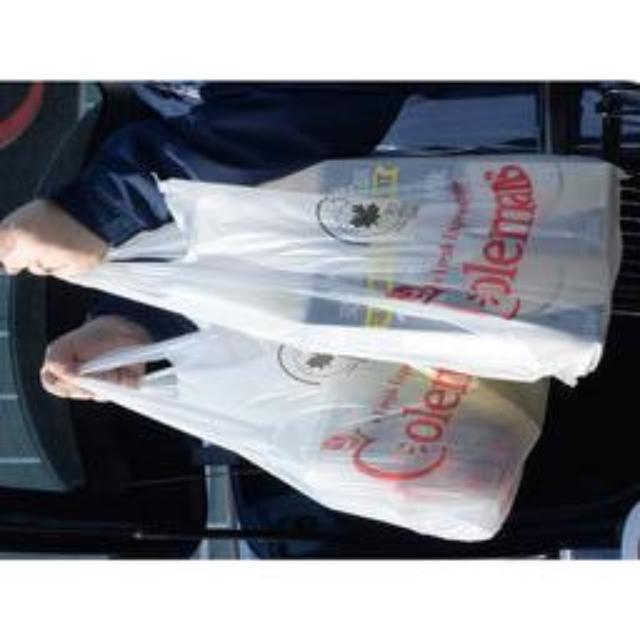Bolsa-de-nilon: (52, 143, 623, 377), (65, 385, 567, 528)
